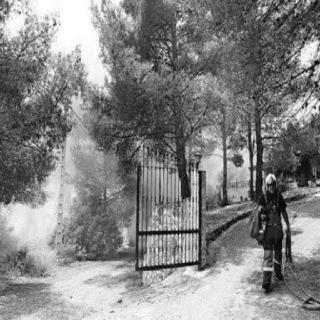other: (247, 162, 291, 290), (221, 184, 247, 202)
